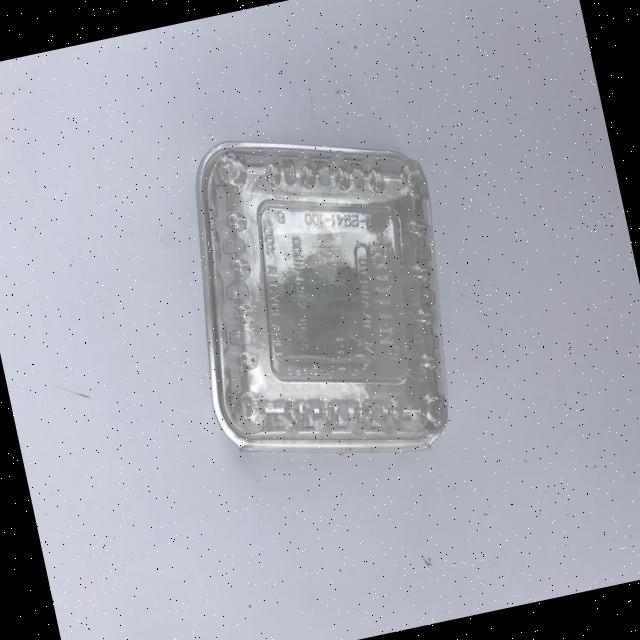plastic: (158, 101, 482, 492)
